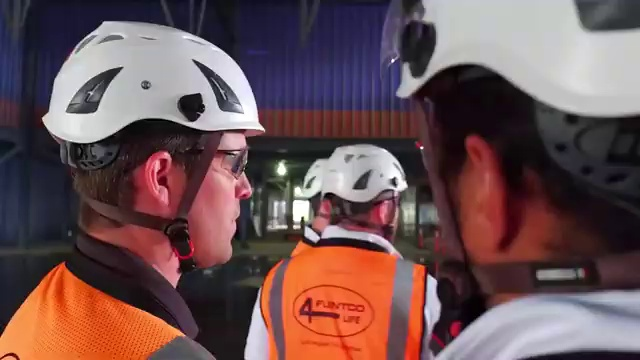helmet: (42, 12, 268, 146), (302, 141, 409, 195)
jacket: (1, 254, 204, 360), (261, 248, 437, 360)
